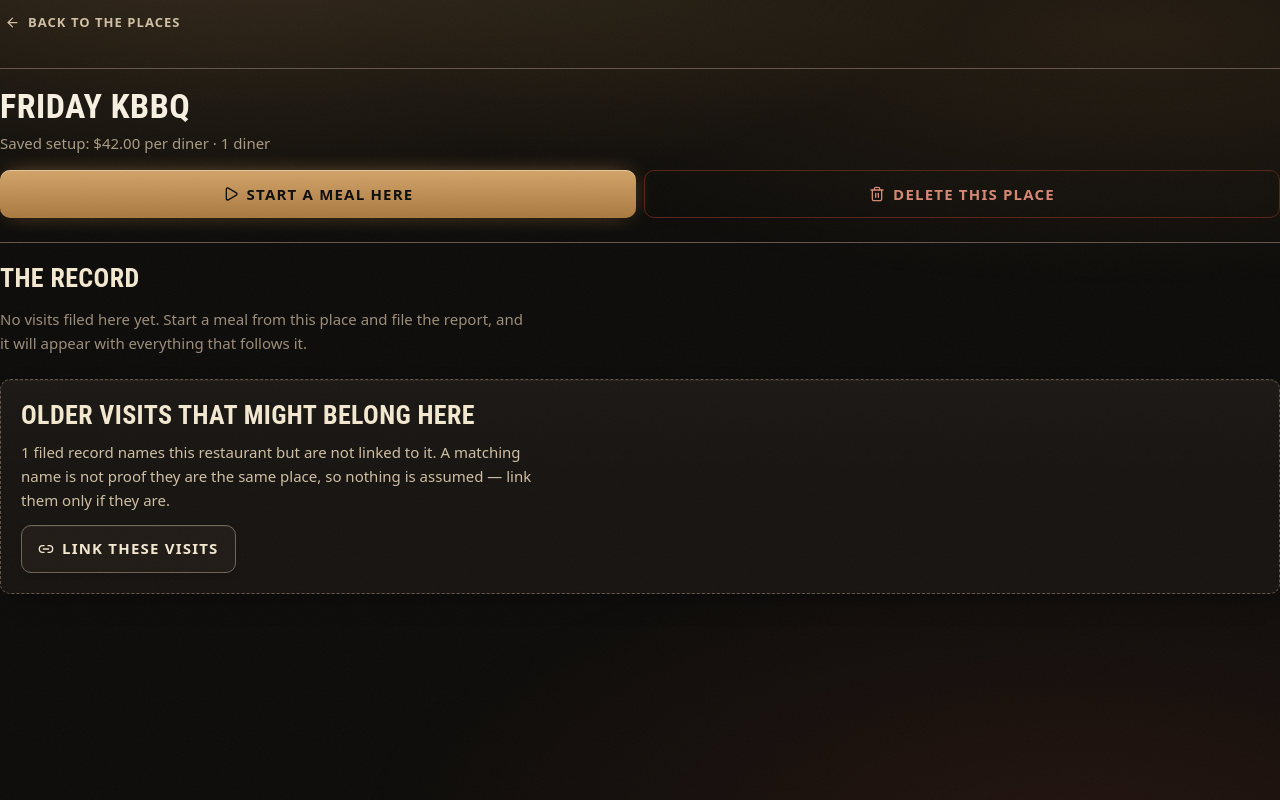
Test: Linking older visits › keeps the records as they were when the device refuses the write
Check: the heading "Older visits that might belong here" is shown, box [21,400,475,430]
What coordinates should you click on to do the following:
click the button "Link these visits"
I would click on:
 (128, 549)
Its box is [21,525,236,573].
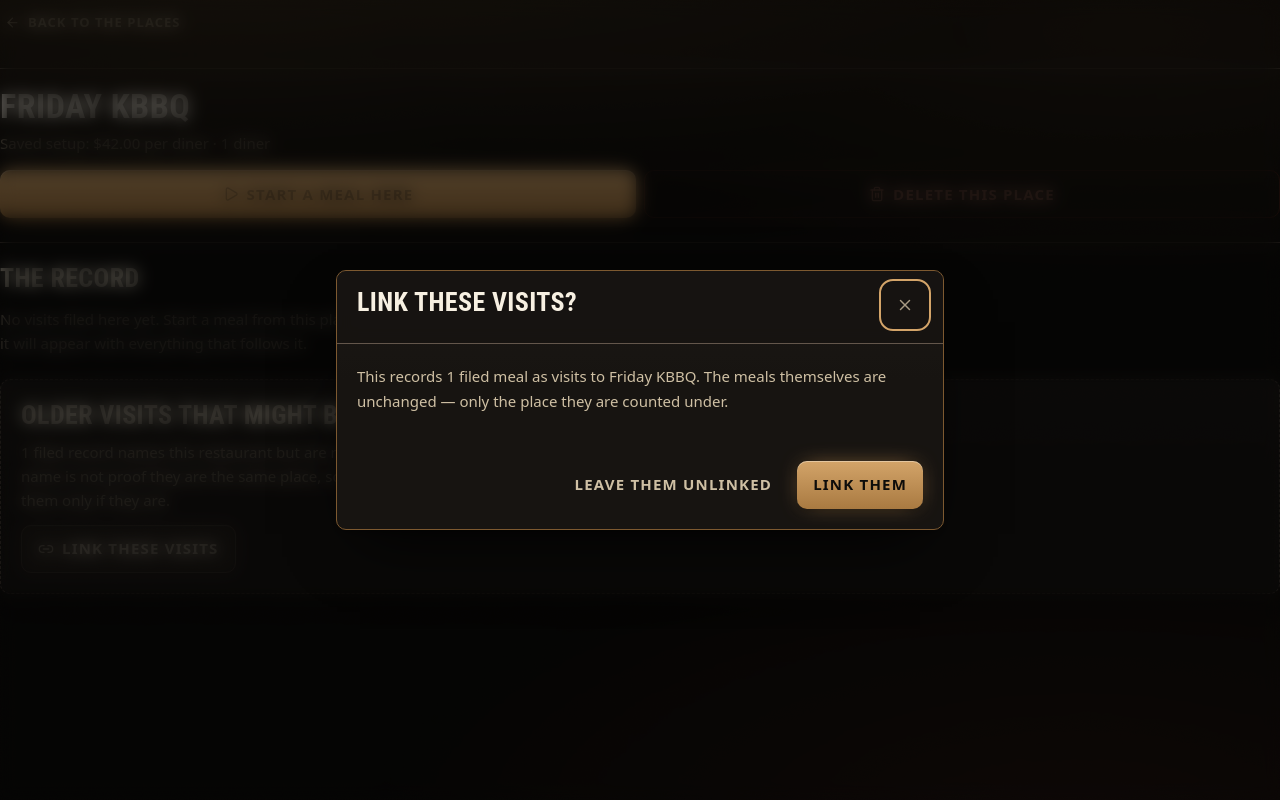
Check: the heading "Link these visits?" is shown, box [357,287,577,318]
What coordinates should you click on to do the following:
click the button "Link them"
I would click on:
 (860, 485)
Its box is [797,461,923,509].
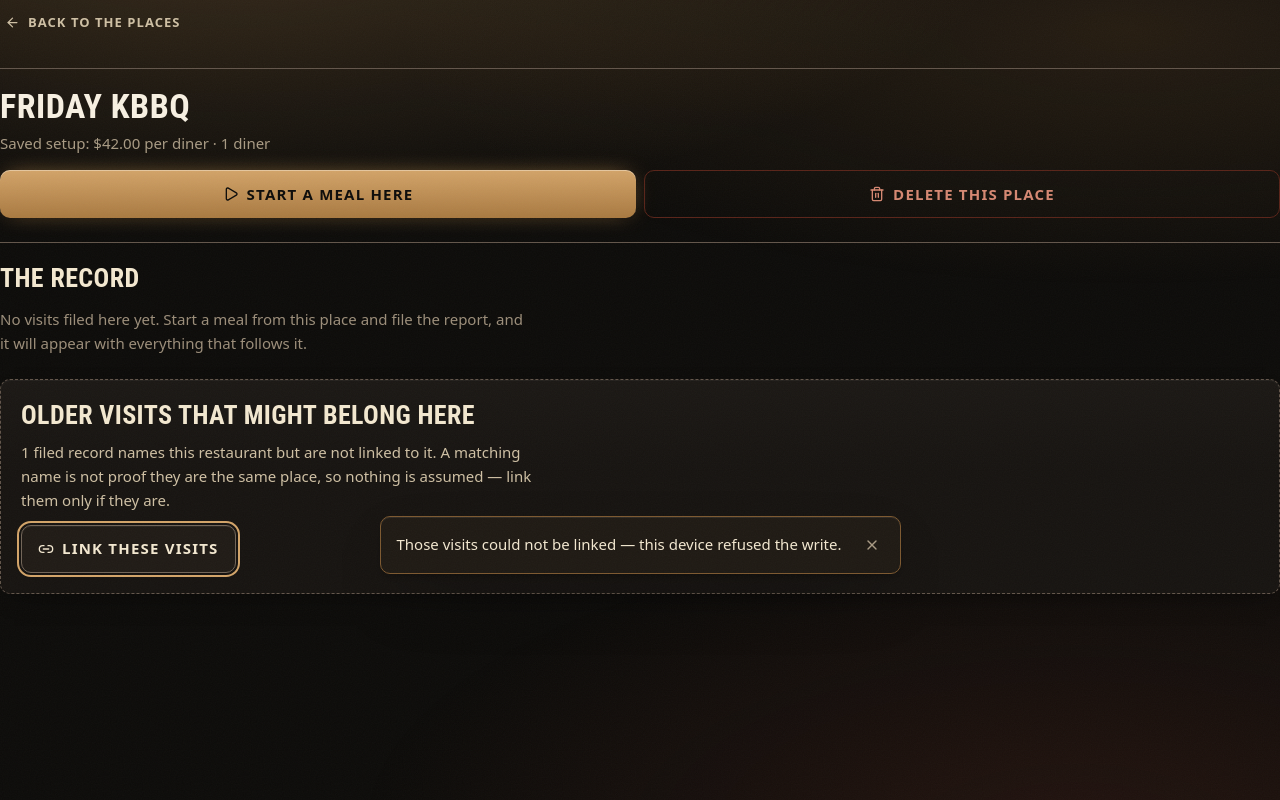
Check: the text "No visits filed here yet" is shown, box [0,309,523,353]
Check: the text "could not be linked" is shown, box [396,534,842,554]
